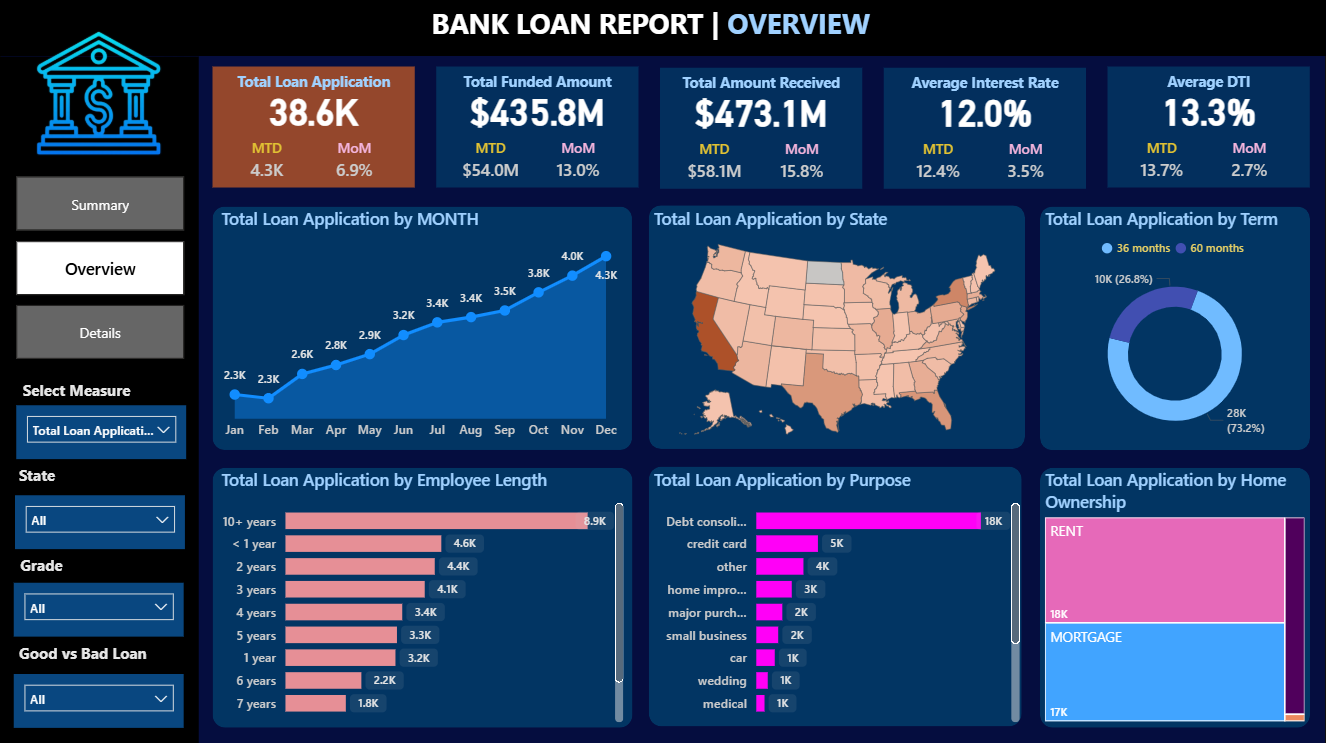

Layout of this report page (visuals, bound fields, positions):
{"tool":"powerbi","page":{"name":"Overview","canvas":[1280,720],"ordinal":1},"visuals":[{"type":"shape","box":[0,55.5,191.8,664.7],"z":0},{"type":"shape","box":[0,0,1280.3,55],"z":1000},{"type":"textbox","box":[411.4,0,465.7,55.5],"z":2000},{"type":"shape","box":[205.1,65.1,195.4,117],"z":3000,"group":"g5"},{"type":"shape","box":[421,65.1,195.4,117],"z":3000,"group":"g2"},{"type":"shape","box":[1068.9,65.1,195.4,117],"z":3000,"group":"g6"},{"type":"shape","box":[637,66.4,195.4,117],"z":3000,"group":"g3"},{"type":"shape","box":[853,66.4,195.4,117],"z":3000,"group":"g4"},{"type":"shape","box":[205.1,200.3,405,235],"z":3000},{"type":"group","id":"g1","title":"Group 1","box":[205.1,65.1,195.4,117],"z":4000},{"type":"card","fields":{"Values":["financial_loan bank_loan_data.Total Loan Application"]},"box":[205.1,79.6,195.4,53.1],"z":4000,"group":"g5"},{"type":"card","fields":{"Values":["financial_loan bank_loan_data.Total Funded Amount"]},"box":[421,79.6,195.4,53.1],"z":4000,"group":"g2"},{"type":"card","fields":{"Values":["financial_loan bank_loan_data.Avg DTI"]},"box":[1068.9,79.6,195.4,53.1],"z":4000,"group":"g6"},{"type":"card","fields":{"Values":["financial_loan bank_loan_data.Total Amount Received"]},"box":[637,80.9,195.4,53.1],"z":4000,"group":"g3"},{"type":"card","fields":{"Values":["financial_loan bank_loan_data.Average Interest Rate"]},"box":[853,80.9,195.4,53.1],"z":4000,"group":"g4"},{"type":"textbox","box":[218.4,65.1,168.9,29],"z":5000,"group":"g5"},{"type":"group","id":"g2","title":"Group 3","box":[421,65.1,195.4,117],"z":5000},{"type":"textbox","box":[434.3,65.1,168.9,29],"z":5000,"group":"g2"},{"type":"textbox","box":[1082.2,65.1,168.9,29],"z":5000,"group":"g6"},{"type":"textbox","box":[650.3,66.4,168.9,29],"z":5000,"group":"g3"},{"type":"textbox","box":[866.3,66.4,168.9,29],"z":5000,"group":"g4"},{"type":"group","id":"g3","title":"Group 3","box":[637,66.4,195.4,117],"z":6000},{"type":"card","title":"MTD","fields":{"Values":["financial_loan bank_loan_data.MTD Loan Application"]},"box":[218.4,133.9,78.4,48.3],"z":6000,"group":"g5"},{"type":"card","title":"MTD","fields":{"Values":["financial_loan bank_loan_data.MTD Funded Amount"]},"box":[434.3,133.9,78.4,48.3],"z":6000,"group":"g2"},{"type":"card","title":"MTD","fields":{"Values":["financial_loan bank_loan_data.MTD DTI"]},"box":[1082.2,133.9,78.4,48.3],"z":6000,"group":"g6"},{"type":"card","title":"MTD","fields":{"Values":["financial_loan bank_loan_data.MTD Amount Received"]},"box":[650.3,135.2,78.4,48.3],"z":6000,"group":"g3"},{"type":"card","title":"MTD","fields":{"Values":["financial_loan bank_loan_data.MTD Interest rate"]},"box":[866.3,135.2,78.4,48.3],"z":6000,"group":"g4"},{"type":"group","id":"g4","title":"Group 3","box":[853,66.4,195.4,117],"z":7000},{"type":"card","title":"MoM","fields":{"Values":["financial_loan bank_loan_data.MOM Loan Application"]},"box":[302.8,133.9,78.4,48.3],"z":7000,"group":"g5"},{"type":"card","title":"MoM","fields":{"Values":["financial_loan bank_loan_data.MoM Funded Amount"]},"box":[518.7,133.9,78.4,48.3],"z":7000,"group":"g2"},{"type":"card","title":"MoM","fields":{"Values":["financial_loan bank_loan_data.MoM DTI"]},"box":[1166.6,133.9,78.4,48.3],"z":7000,"group":"g6"},{"type":"card","title":"MoM","fields":{"Values":["financial_loan bank_loan_data.MoM Amount Received"]},"box":[734.7,135.2,78.4,48.3],"z":7000,"group":"g3"},{"type":"card","title":"MoM","fields":{"Values":["financial_loan bank_loan_data.MoM Interest Rate"]},"box":[950.7,135.2,78.4,48.3],"z":7000,"group":"g4"},{"type":"group","id":"g5","title":"Group 2","box":[205.1,65.1,195.4,117],"z":7002,"group":"g1"},{"type":"group","id":"g6","title":"Group 3","box":[1068.9,65.1,195.4,117],"z":8000},{"type":"areaChart","fields":{"Y":["financial_loan bank_loan_data.Total Loan Application"],"Category":["DATE TABLE.MONTH"]},"box":[208.7,200.3,394.5,234],"z":9000},{"type":"shape","box":[626.1,199.1,363.1,235.3],"z":10000},{"type":"shape","box":[1003.8,200.3,260.6,235.3],"z":11000},{"type":"shapeMap","fields":{"Value":["financial_loan bank_loan_data.Total Loan Application"],"Category":["financial_loan bank_loan_data.address_state"]},"box":[626.1,200.3,364.3,235.3],"z":12000},{"type":"donutChart","fields":{"Y":["financial_loan bank_loan_data.Total Loan Application"],"Category":["financial_loan bank_loan_data.term"]},"box":[1003.8,200.3,260.6,235.3],"z":13000},{"type":"shape","box":[205.1,452.4,405.4,250.9],"z":14000},{"type":"barChart","fields":{"Y":["financial_loan bank_loan_data.Total Loan Application"],"Category":["financial_loan bank_loan_data.emp_length"]},"box":[208.7,452.4,398.1,250.9],"z":15000},{"type":"shape","box":[626.1,451.2,360,250.9],"z":16000},{"type":"barChart","fields":{"Y":["financial_loan bank_loan_data.Total Loan Application"],"Category":["financial_loan bank_loan_data.purpose"]},"box":[626.1,452.4,363.1,250.9],"z":17000},{"type":"shape","box":[1003.8,452.4,260.6,250.9],"z":18000},{"type":"treemap","fields":{"Values":["financial_loan bank_loan_data.Total Loan Application"],"Group":["financial_loan bank_loan_data.home_ownership"]},"box":[1003.8,452.4,260.6,249.7],"z":19000},{"type":"slicer","fields":{"Values":["financial_loan bank_loan_data.address_state"]},"box":[14.5,478.5,164.1,51.9],"z":20000},{"type":"textbox","box":[13.3,443.5,63.9,35],"z":21000},{"type":"slicer","fields":{"Values":["financial_loan bank_loan_data.grade"]},"box":[13.3,563.5,164.1,51.9],"z":22000},{"type":"textbox","box":[14.5,530.4,63.9,35],"z":23000},{"type":"slicer","fields":{"Values":["financial_loan bank_loan_data.Good vs Bad Loan"]},"box":[13.3,651.5,164.1,51.9],"z":24000},{"type":"textbox","box":[13.3,616.5,155.6,35],"z":25000},{"type":"slicer","fields":{"Values":["Select Measure.Select Measure"]},"box":[15.4,392.1,164.1,51.9],"z":26000},{"type":"textbox","box":[16.6,362.4,153.2,30.2],"z":27000},{"type":"pageNavigator","box":[15.7,171.3,162.9,176.1],"z":28000},{"type":"image","box":[25.3,27.7,139.9,126.7],"z":29000}]}

Visuals, with their boxes in screenshot pixels (x1, y1, x2, y2), scaled from the page's 1280x720 canvas onto the 1326x743 screenshot:
shape: bbox(0, 57, 199, 742)
shape: bbox(0, 0, 1325, 57)
textbox: bbox(426, 0, 909, 57)
shape: bbox(212, 67, 415, 188)
shape: bbox(436, 67, 639, 188)
shape: bbox(1107, 67, 1310, 188)
shape: bbox(660, 69, 862, 189)
shape: bbox(884, 69, 1086, 189)
shape: bbox(212, 207, 632, 449)
"Group 1" group: bbox(212, 67, 415, 188)
card - financial_loan bank_loan_data.Total Loan Application: bbox(212, 82, 415, 137)
card - financial_loan bank_loan_data.Total Funded Amount: bbox(436, 82, 639, 137)
card - financial_loan bank_loan_data.Avg DTI: bbox(1107, 82, 1310, 137)
card - financial_loan bank_loan_data.Total Amount Received: bbox(660, 83, 862, 138)
card - financial_loan bank_loan_data.Average Interest Rate: bbox(884, 83, 1086, 138)
textbox: bbox(226, 67, 401, 97)
"Group 3" group: bbox(436, 67, 639, 188)
textbox: bbox(450, 67, 625, 97)
textbox: bbox(1121, 67, 1296, 97)
textbox: bbox(674, 69, 849, 98)
textbox: bbox(897, 69, 1072, 98)
"Group 3" group: bbox(660, 69, 862, 189)
"MTD" card: bbox(226, 138, 307, 188)
"MTD" card: bbox(450, 138, 531, 188)
"MTD" card: bbox(1121, 138, 1202, 188)
"MTD" card: bbox(674, 140, 755, 189)
"MTD" card: bbox(897, 140, 979, 189)
"Group 3" group: bbox(884, 69, 1086, 189)
"MoM" card: bbox(314, 138, 395, 188)
"MoM" card: bbox(537, 138, 619, 188)
"MoM" card: bbox(1209, 138, 1290, 188)
"MoM" card: bbox(761, 140, 842, 189)
"MoM" card: bbox(985, 140, 1066, 189)
"Group 2" group: bbox(212, 67, 415, 188)
"Group 3" group: bbox(1107, 67, 1310, 188)
areaChart - financial_loan bank_loan_data.Total Loan Application x DATE TABLE.MONTH: bbox(216, 207, 625, 448)
shape: bbox(649, 205, 1025, 448)
shape: bbox(1040, 207, 1310, 450)
shapeMap - financial_loan bank_loan_data.Total Loan Application x financial_loan bank_loan_data.address_state: bbox(649, 207, 1026, 450)
donutChart - financial_loan bank_loan_data.Total Loan Application x financial_loan bank_loan_data.term: bbox(1040, 207, 1310, 450)
shape: bbox(212, 467, 632, 726)
barChart - financial_loan bank_loan_data.Total Loan Application x financial_loan bank_loan_data.emp_length: bbox(216, 467, 629, 726)
shape: bbox(649, 466, 1022, 725)
barChart - financial_loan bank_loan_data.Total Loan Application x financial_loan bank_loan_data.purpose: bbox(649, 467, 1025, 726)
shape: bbox(1040, 467, 1310, 726)
treemap - financial_loan bank_loan_data.Total Loan Application x financial_loan bank_loan_data.home_ownership: bbox(1040, 467, 1310, 725)
slicer - financial_loan bank_loan_data.address_state: bbox(15, 494, 185, 547)
textbox: bbox(14, 458, 80, 494)
slicer - financial_loan bank_loan_data.grade: bbox(14, 582, 184, 635)
textbox: bbox(15, 547, 81, 583)
slicer - financial_loan bank_loan_data.Good vs Bad Loan: bbox(14, 672, 184, 726)
textbox: bbox(14, 636, 175, 672)
slicer - Select Measure.Select Measure: bbox(16, 405, 186, 458)
textbox: bbox(17, 374, 176, 405)
pageNavigator: bbox(16, 177, 185, 358)
image: bbox(26, 29, 171, 159)
